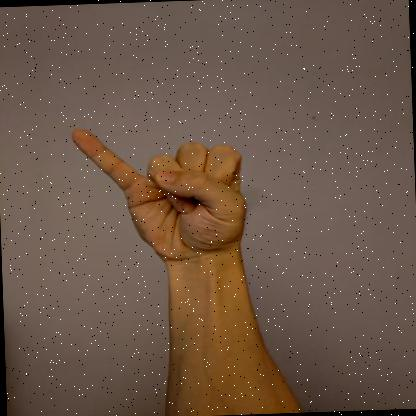I: (72, 129, 246, 262)
